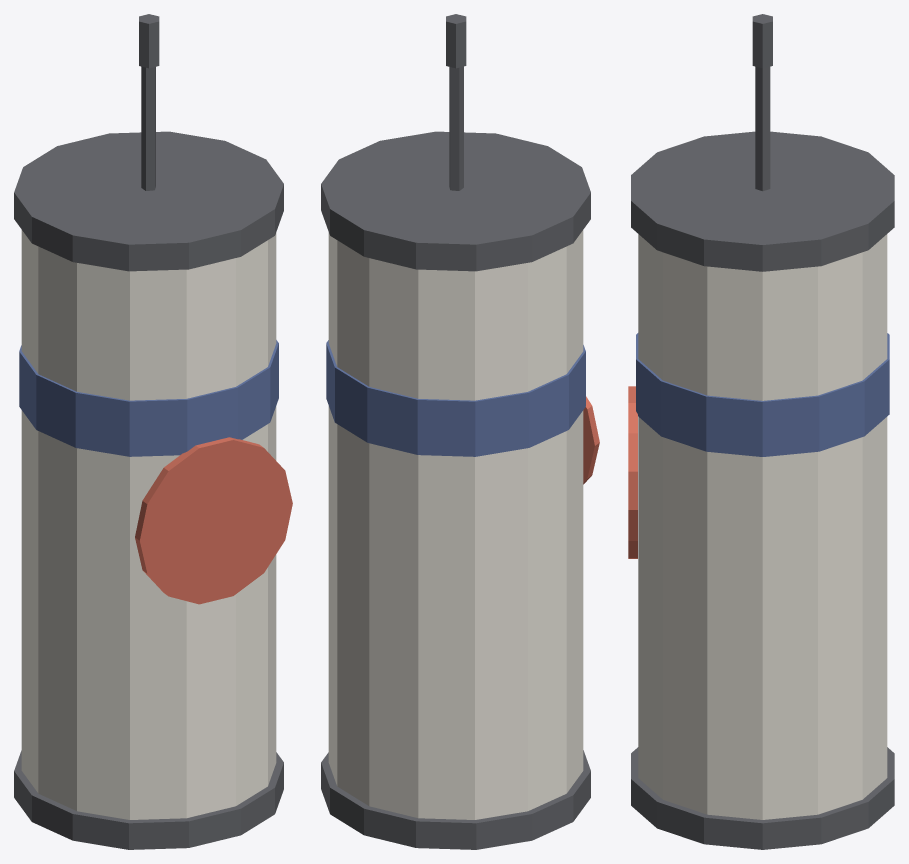
File: cylindrical_paper_lantern.glb
3 views of the same model, side by side, from view 1: azimuth 30°, elevation 25°; view 2: azimuth 150°, elevation 25°; view 3: azimuth 270°, elevation 25° (orthographic).
Parts seen in each view (by area): view 1: paper-lantern-cylinder-cream, paper-lantern-cylinder-charcoal, paper-lantern-cylinder-vermilion, paper-lantern-cylinder-indigo; view 2: paper-lantern-cylinder-cream, paper-lantern-cylinder-charcoal, paper-lantern-cylinder-indigo, paper-lantern-cylinder-vermilion; view 3: paper-lantern-cylinder-cream, paper-lantern-cylinder-charcoal, paper-lantern-cylinder-indigo, paper-lantern-cylinder-vermilion.
Boxes of the visible parts, x1=… form: paper-lantern-cylinder-cream: x1=21, y1=230, x2=276, y2=819; paper-lantern-cylinder-charcoal: x1=14, y1=14, x2=283, y2=849; paper-lantern-cylinder-vermilion: x1=135, y1=437, x2=292, y2=604; paper-lantern-cylinder-indigo: x1=19, y1=340, x2=278, y2=456; paper-lantern-cylinder-cream: x1=328, y1=230, x2=583, y2=819; paper-lantern-cylinder-charcoal: x1=321, y1=14, x2=590, y2=849; paper-lantern-cylinder-indigo: x1=326, y1=340, x2=585, y2=456; paper-lantern-cylinder-vermilion: x1=583, y1=396, x2=599, y2=484; paper-lantern-cylinder-cream: x1=638, y1=234, x2=887, y2=819; paper-lantern-cylinder-charcoal: x1=631, y1=14, x2=894, y2=849; paper-lantern-cylinder-indigo: x1=636, y1=333, x2=889, y2=456; paper-lantern-cylinder-vermilion: x1=628, y1=386, x2=637, y2=558.
Bounding box in the file's own units: 0.2756 × 0.87 × 0.2714.
